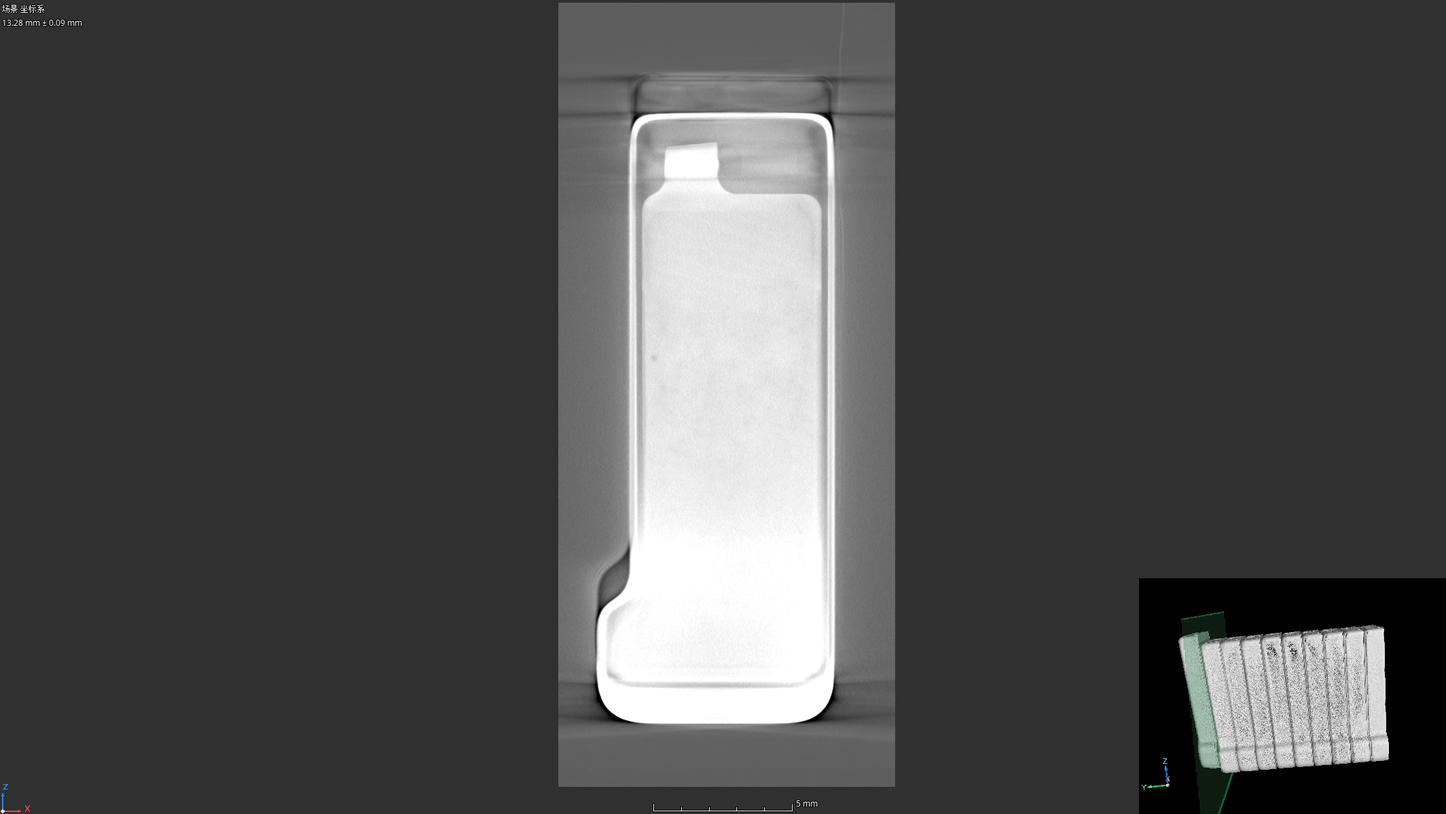dark: (648, 353, 660, 364)
